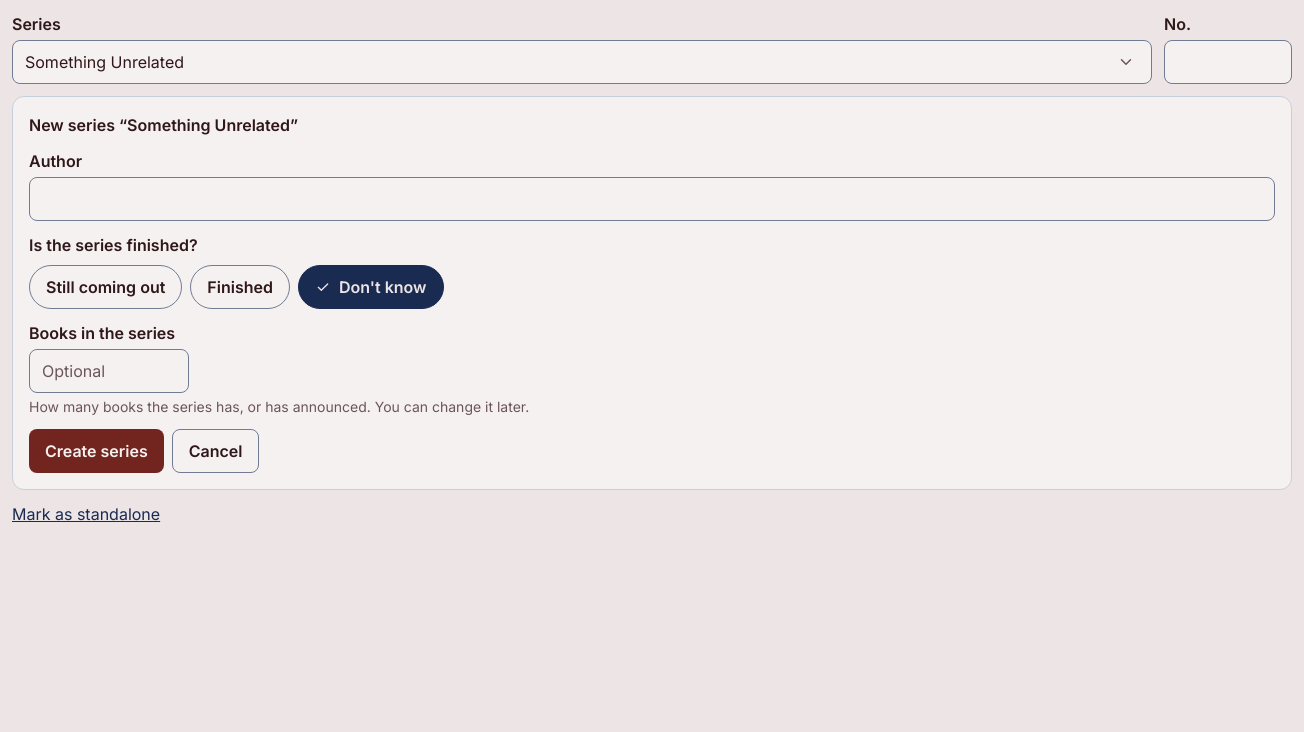
SeriesPicker › lists every series from the chevron even when the field holds other text
Click the button named "Show all series" at (1126, 62), box [1104,40,1148,84]
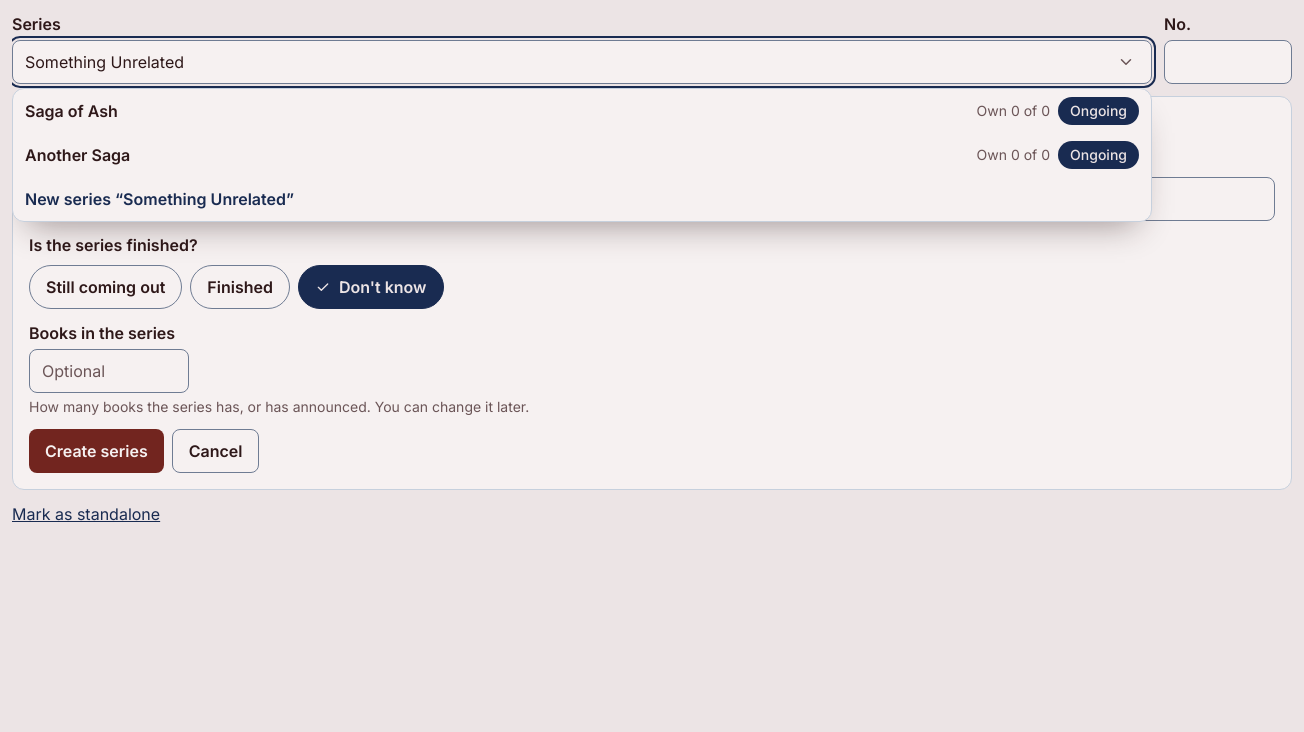
Expected: the option "Saga of Ash Own 0 of 0 Ongoing" is shown, [13,89,1151,133]
Expected: the option "Another Saga Own 0 of 0 Ongoing" is shown, [13,133,1151,177]
